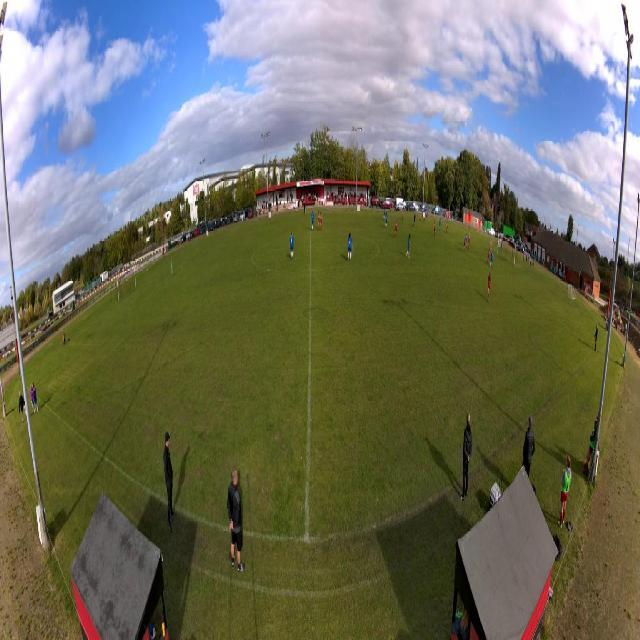ball: (428, 218, 429, 222)
player: (347, 232, 353, 262), (406, 232, 412, 259), (487, 272, 492, 303), (289, 231, 294, 260), (311, 210, 315, 231), (170, 258, 174, 279), (394, 219, 398, 239), (490, 250, 494, 269), (384, 211, 388, 229), (463, 235, 467, 253), (487, 248, 491, 265), (467, 232, 471, 249), (412, 213, 416, 229), (317, 210, 320, 231), (320, 211, 323, 230), (433, 221, 436, 238), (383, 209, 386, 221), (445, 221, 448, 233), (439, 216, 441, 232), (465, 232, 467, 248), (490, 239, 492, 253), (402, 208, 404, 220), (424, 210, 426, 221), (426, 209, 428, 220)
